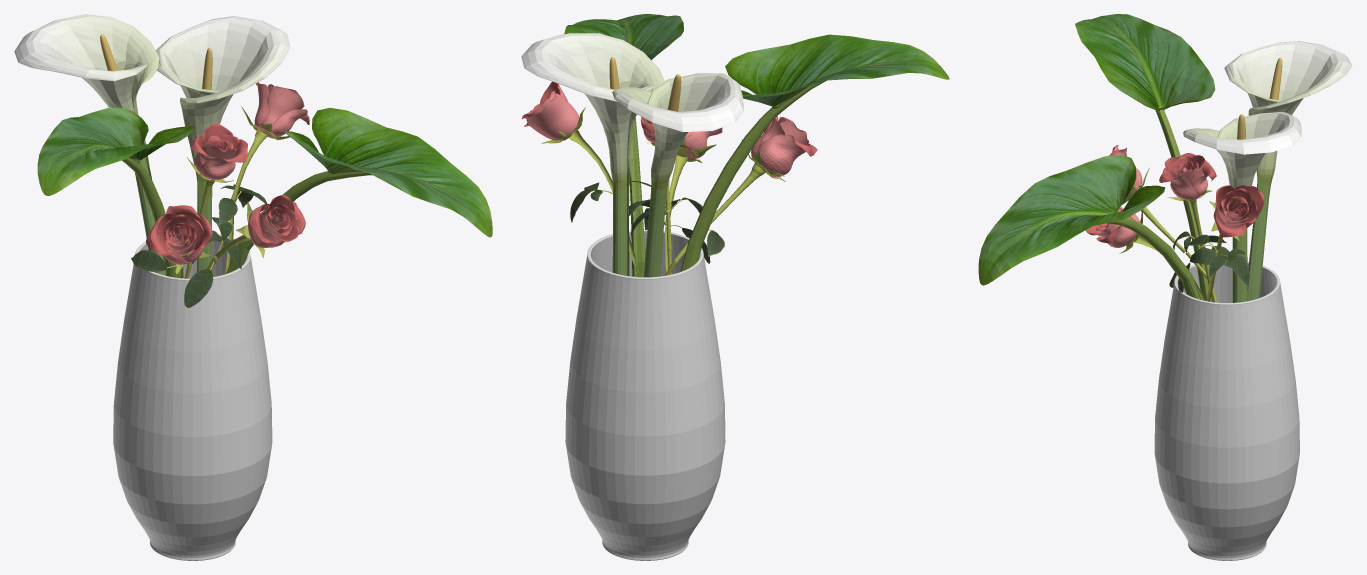
Rendered from sweethome3d-scopia-flowers.glb.
The picture shows the model from 3 angles, left to right: view 1: azimuth 30°, elevation 25°; view 2: azimuth 150°, elevation 25°; view 3: azimuth 270°, elevation 25°; orthographic projection. The views are drawn at different scales.
Parts seen in each view (by area): view 1: jar_Cylinder, leaf1_Circle.001, stem_Plane.001, stem.001_Plane, leaf2_Circle, rose2_Plane.003, rose1_Plane.015, rose3_Plane.005, rose4_Plane.007, rose_stem3_Circle.004, rose_stem4_Circle.005, rose_stem4.001_Circle.009; view 2: jar_Cylinder, leaf2_Circle, stem_Plane.001, stem.001_Plane, leaf1_Circle.001, rose2_Plane.003, rose4_Plane.007, rose_stem2.001_Circle.006, rose_stem3.001_Circle.008, rose_stem4_Circle.005, rose3_Plane.005; view 3: jar_Cylinder, leaf1_Circle.001, leaf2_Circle, stem.001_Plane, stem_Plane.001, rose4_Plane.007, rose1_Plane.015, rose_stem4.001_Circle.009, rose3_Plane.005, rose_stem2.001_Circle.006, rose_stem3_Circle.004.
Boxes of the visible parts, bbox=[...] form: jar_Cylinder: bbox=[113, 234, 272, 560]; leaf1_Circle.001: bbox=[226, 107, 492, 273]; stem_Plane.001: bbox=[156, 16, 290, 272]; stem.001_Plane: bbox=[14, 14, 165, 275]; leaf2_Circle: bbox=[37, 107, 195, 277]; rose2_Plane.003: bbox=[146, 205, 212, 264]; rose1_Plane.015: bbox=[190, 122, 247, 179]; rose3_Plane.005: bbox=[248, 195, 305, 247]; rose4_Plane.007: bbox=[254, 82, 309, 136]; rose_stem3_Circle.004: bbox=[184, 217, 241, 307]; rose_stem4_Circle.005: bbox=[225, 106, 289, 273]; rose_stem4.001_Circle.009: bbox=[218, 184, 267, 225]; jar_Cylinder: bbox=[565, 229, 725, 560]; leaf2_Circle: bbox=[680, 34, 949, 271]; stem_Plane.001: bbox=[521, 33, 664, 276]; stem.001_Plane: bbox=[612, 73, 743, 277]; leaf1_Circle.001: bbox=[564, 14, 683, 277]; rose2_Plane.003: bbox=[751, 116, 817, 177]; rose4_Plane.007: bbox=[522, 81, 579, 140]; rose_stem2.001_Circle.006: bbox=[665, 139, 785, 275]; rose_stem3.001_Circle.008: bbox=[664, 137, 716, 272]; rose_stem4_Circle.005: bbox=[541, 107, 636, 265]; rose3_Plane.005: bbox=[684, 127, 722, 158]; jar_Cylinder: bbox=[1154, 261, 1299, 560]; leaf1_Circle.001: bbox=[978, 154, 1201, 299]; leaf2_Circle: bbox=[1075, 14, 1215, 301]; stem.001_Plane: bbox=[1224, 41, 1352, 300]; stem_Plane.001: bbox=[1183, 112, 1301, 302]; rose4_Plane.007: bbox=[1213, 185, 1264, 237]; rose1_Plane.015: bbox=[1159, 153, 1216, 200]; rose_stem4.001_Circle.009: bbox=[1187, 234, 1249, 286]; rose3_Plane.005: bbox=[1085, 207, 1140, 247]; rose_stem2.001_Circle.006: bbox=[1122, 167, 1217, 302]; rose_stem3_Circle.004: bbox=[1169, 247, 1215, 292].
Size of the model in its own units: 43.6 by 52.36 by 38.59.
11 materials, 6 textured.
